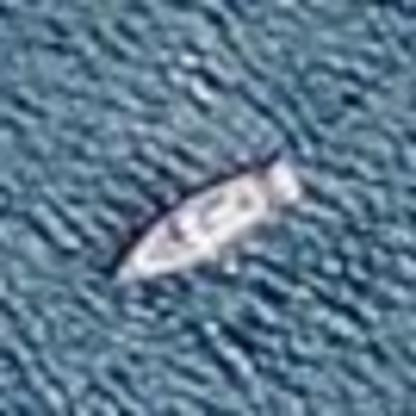ship: (100, 150, 310, 294)
